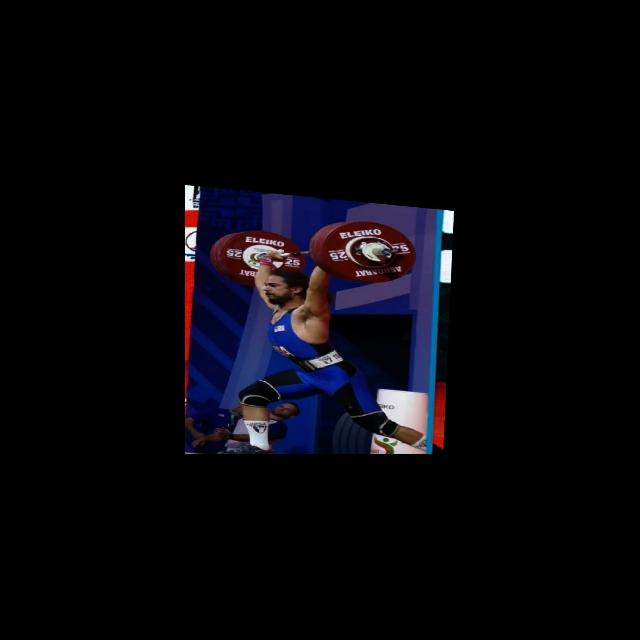barbell: (321, 212, 418, 285)
